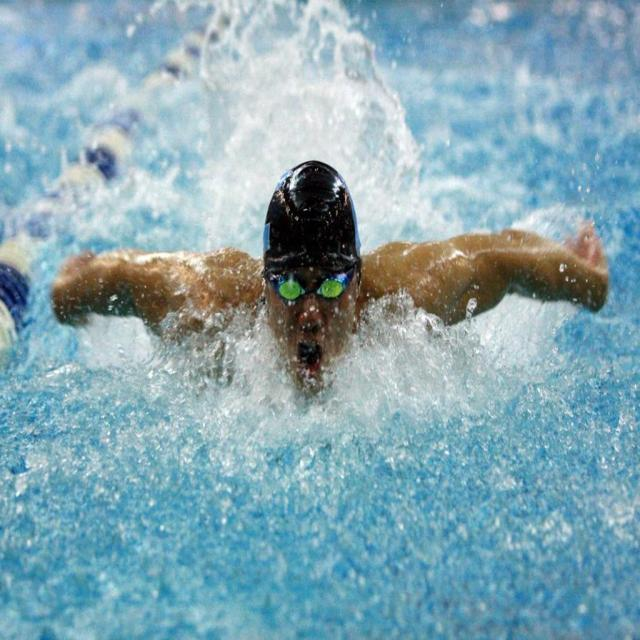nomask: (269, 234, 355, 403)
